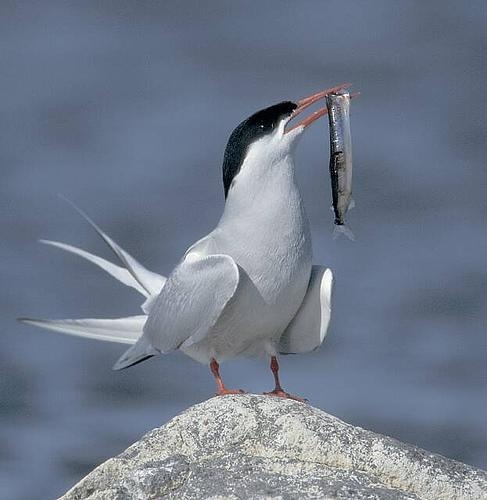bird: (28, 80, 372, 399)
